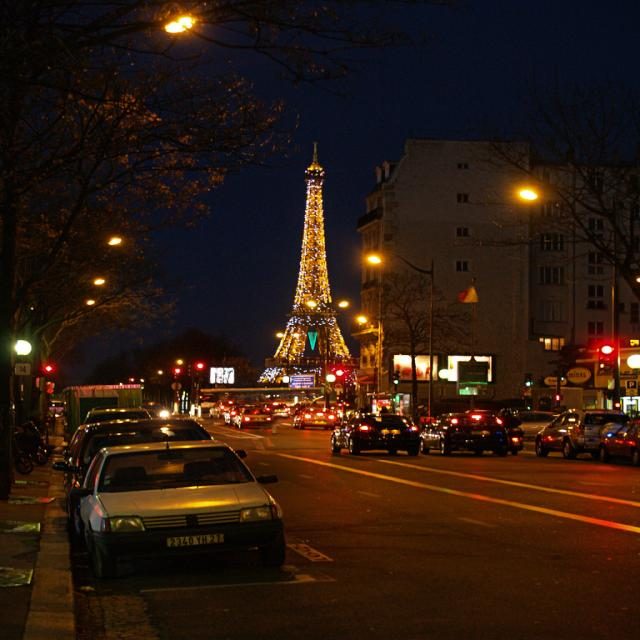Car: (12, 375, 268, 593), (300, 400, 640, 494)
